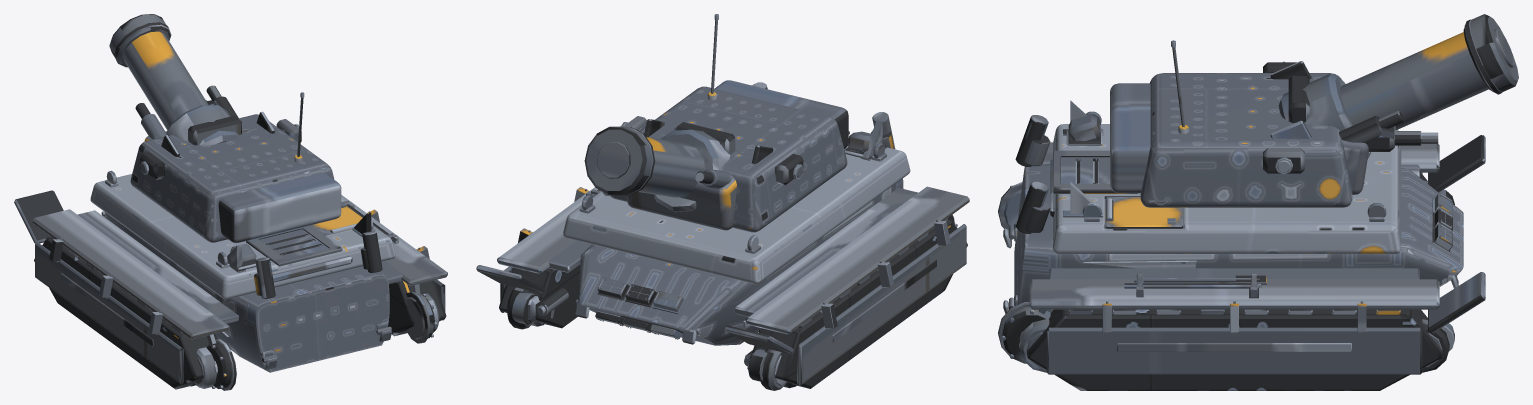
The model's file is BulwarkSiegeTank_Atlas.fbx.
The picture shows the model from 3 angles, left to right: view 1: azimuth 30°, elevation 25°; view 2: azimuth 150°, elevation 25°; view 3: azimuth 270°, elevation 25°; orthographic projection. The views are drawn at different scales.
Visible parts, largest first — view 1: BulwarkSiegeTank_UnifiedMesh; view 2: BulwarkSiegeTank_UnifiedMesh; view 3: BulwarkSiegeTank_UnifiedMesh.
Boxes of the visible parts, x1,y1,x2,y2 form: BulwarkSiegeTank_UnifiedMesh: (14,14,447,390); BulwarkSiegeTank_UnifiedMesh: (476,14,969,390); BulwarkSiegeTank_UnifiedMesh: (998,14,1518,390).
Size of the model in its own units: 276 by 218 by 347.
1 material, 1 textured.
